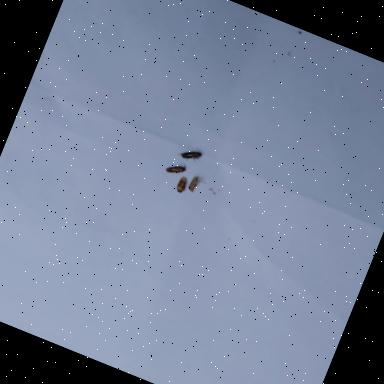pbw: (179, 146, 203, 165), (164, 160, 186, 178), (176, 176, 190, 195), (186, 176, 200, 193)
